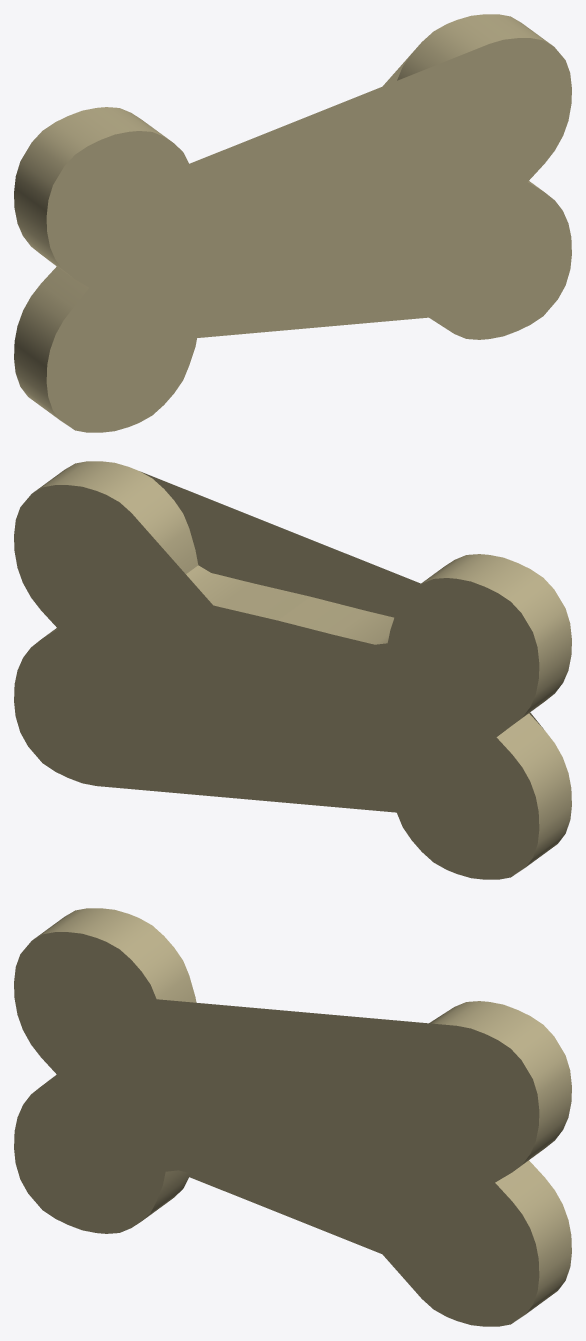
The model's file is Bones.fbx.
3 renders of one model, top to bottom at view 1: azimuth 30°, elevation 25°; view 2: azimuth 150°, elevation 25°; view 3: azimuth 330°, elevation 25°, orthographic.
Visible parts, largest first — view 1: Bone 2.006; view 2: Bone 2.006; view 3: Bone 2.006.
Boxes of the visible parts, left/top/right/bottom form: Bone 2.006: left=14, top=14, right=571, bottom=432; Bone 2.006: left=14, top=461, right=571, bottom=879; Bone 2.006: left=14, top=908, right=571, bottom=1326.
Size of the model in its own units: 131 by 70.64 by 14.09.
